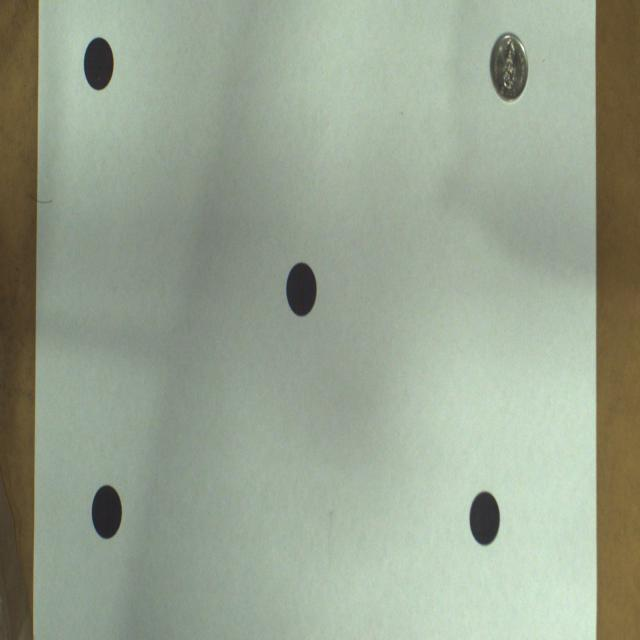space: (91, 484, 122, 540), (470, 491, 500, 547), (286, 262, 316, 316), (84, 38, 114, 91)
tail1bath: (490, 33, 528, 102)
